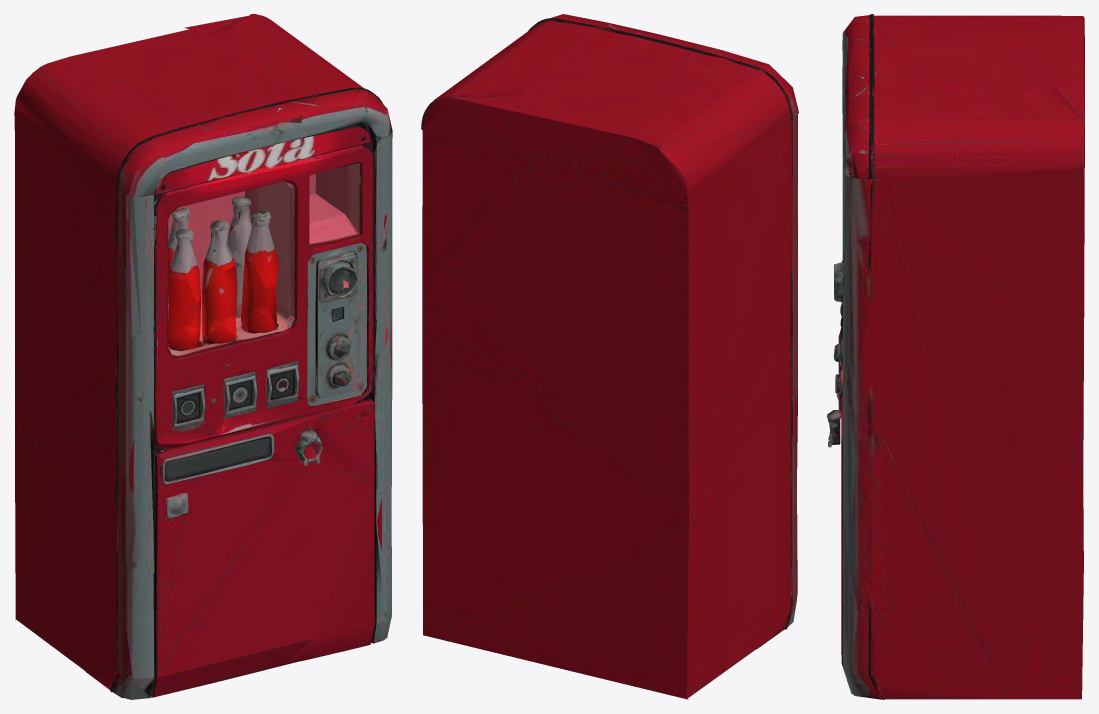
Rendered from perk-machine.glb.
3 renders of one model, left to right at view 1: azimuth 30°, elevation 25°; view 2: azimuth 150°, elevation 25°; view 3: azimuth 270°, elevation 25°, orthographic. The views are drawn at different scales.
Size of the model in its own units: 0.9734 by 1.9 by 0.7811.
Materials: 1 (1 with a texture image).
